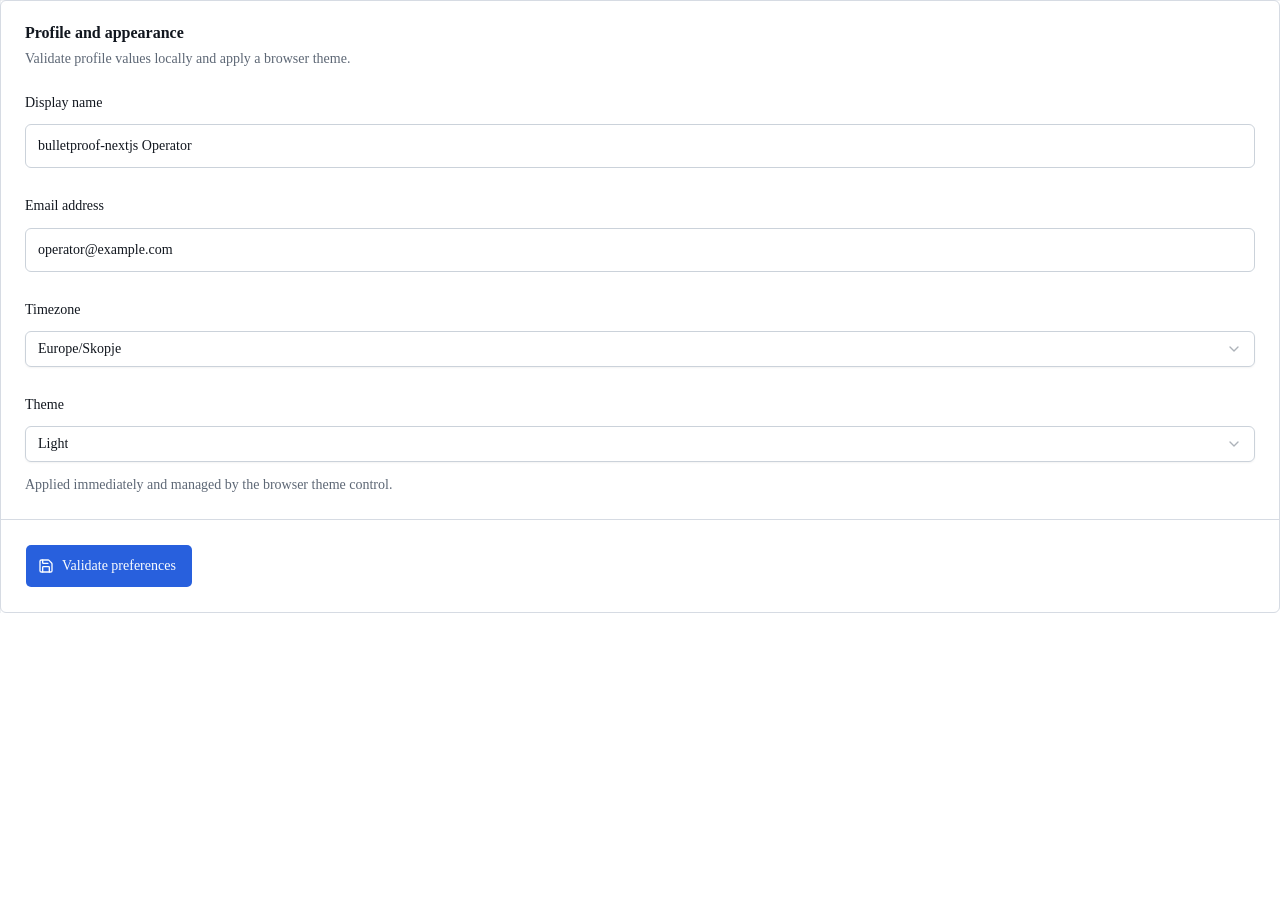
it: SettingsForm › applies theme selection and reports that profile values are not saved
The width and height of the screenshot is (1280, 900).
Click the dropdown named "Theme".
click(53, 444)  # box [25,426,1255,462]
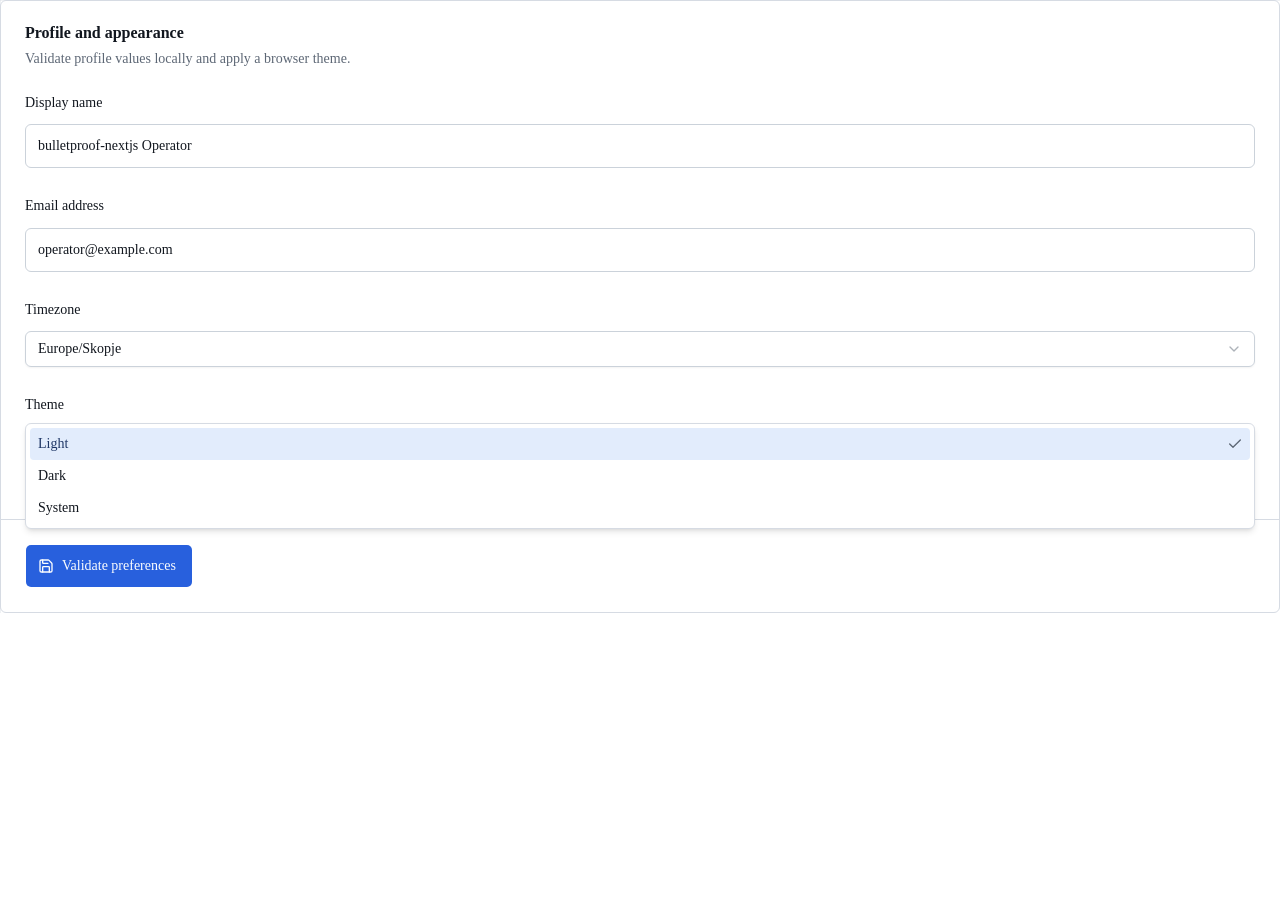
Click the option "Dark".
click(52, 476)  # box [38,468,66,483]
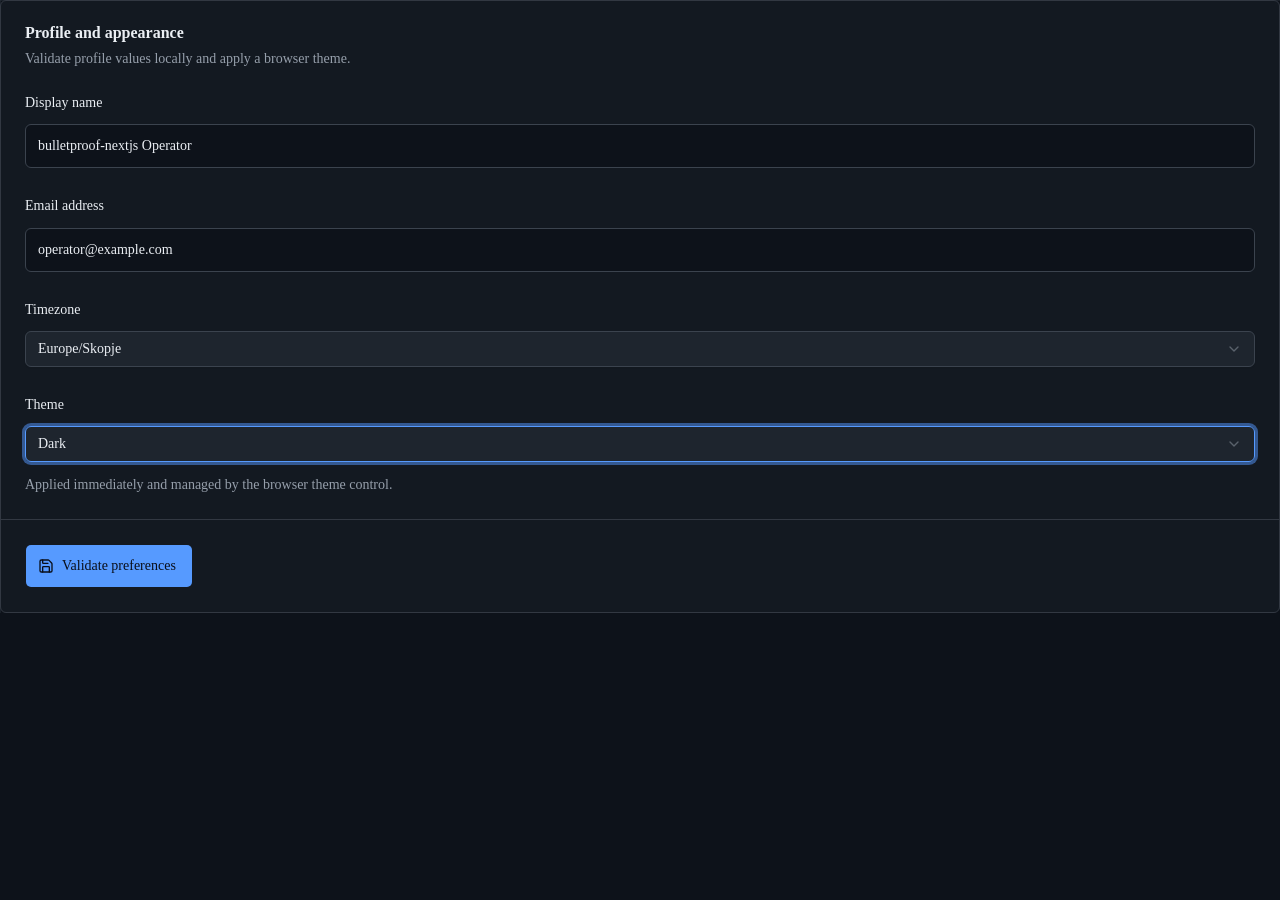
Click the button "Validate preferences".
click(109, 566)  # box [25,544,193,588]
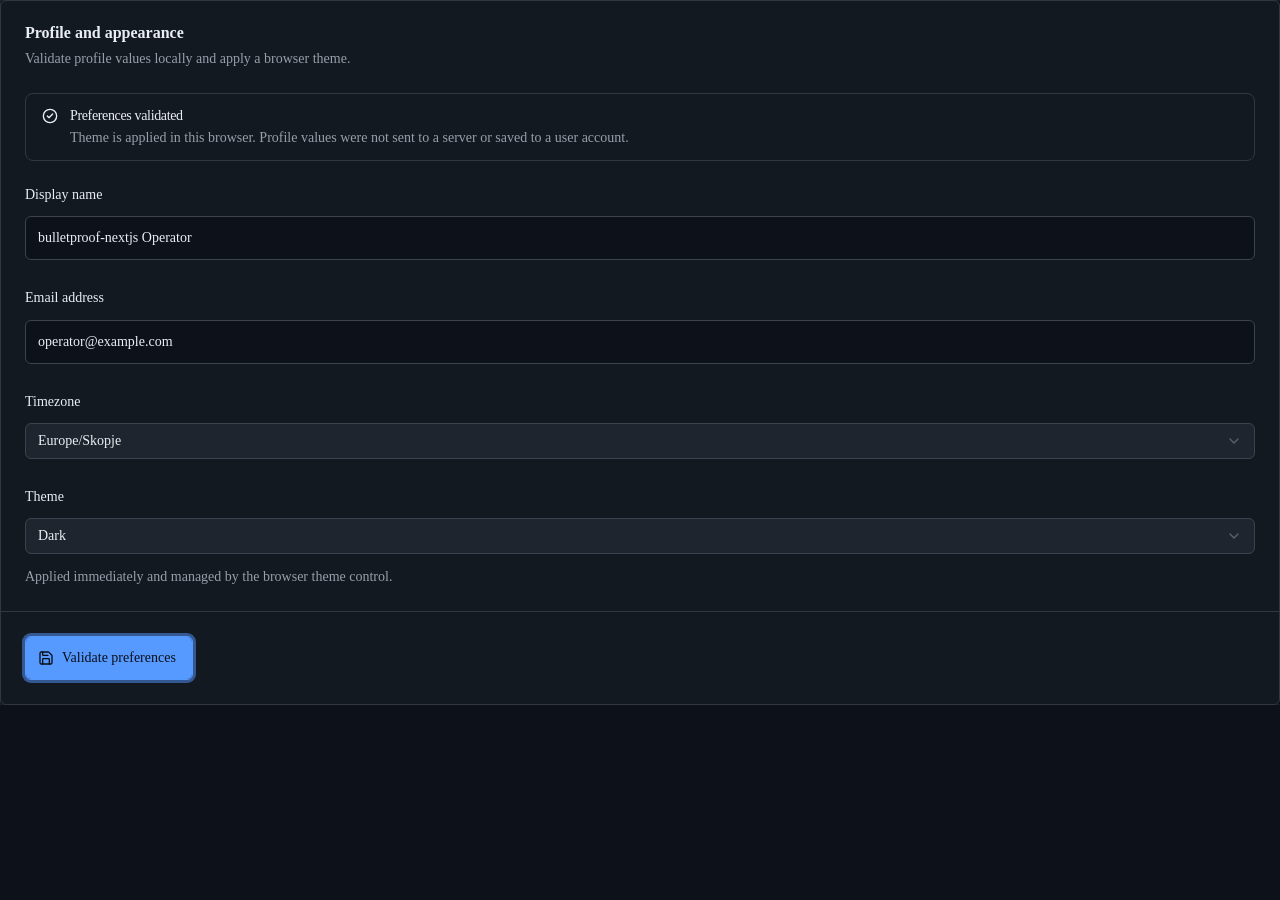
Result: the message shows "Preferences validated" at [70,108,183,123]
Result: the text "not sent to a server or saved" is shown at [70,130,629,145]
